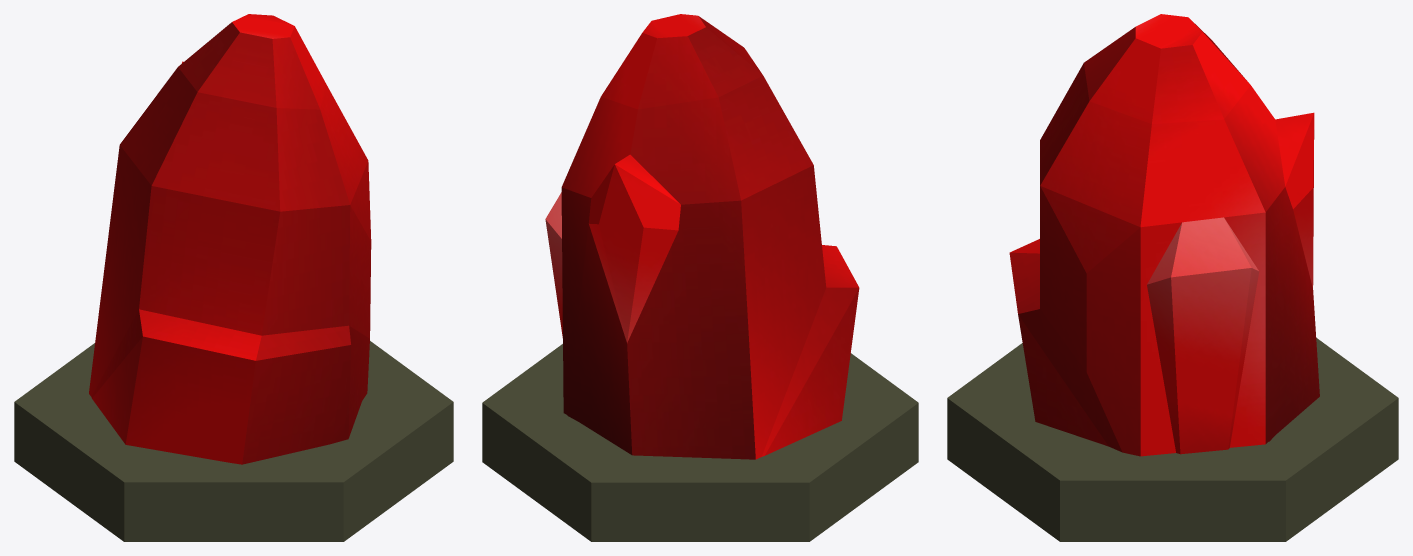
Rendered from GroundBlock(1).fbx.
The picture shows the model from 3 angles, left to right: view 1: azimuth 30°, elevation 25°; view 2: azimuth 150°, elevation 25°; view 3: azimuth 270°, elevation 25°; orthographic projection. The views are drawn at different scales.
Parts seen in each view (by area): view 1: Block2; view 2: Block2; view 3: Block2.
Boxes of the visible parts, bbox=[...] form: Block2: bbox=[14, 14, 453, 541]; Block2: bbox=[482, 14, 918, 541]; Block2: bbox=[947, 14, 1398, 541].
Size of the model in its own units: 173 by 218 by 200.
